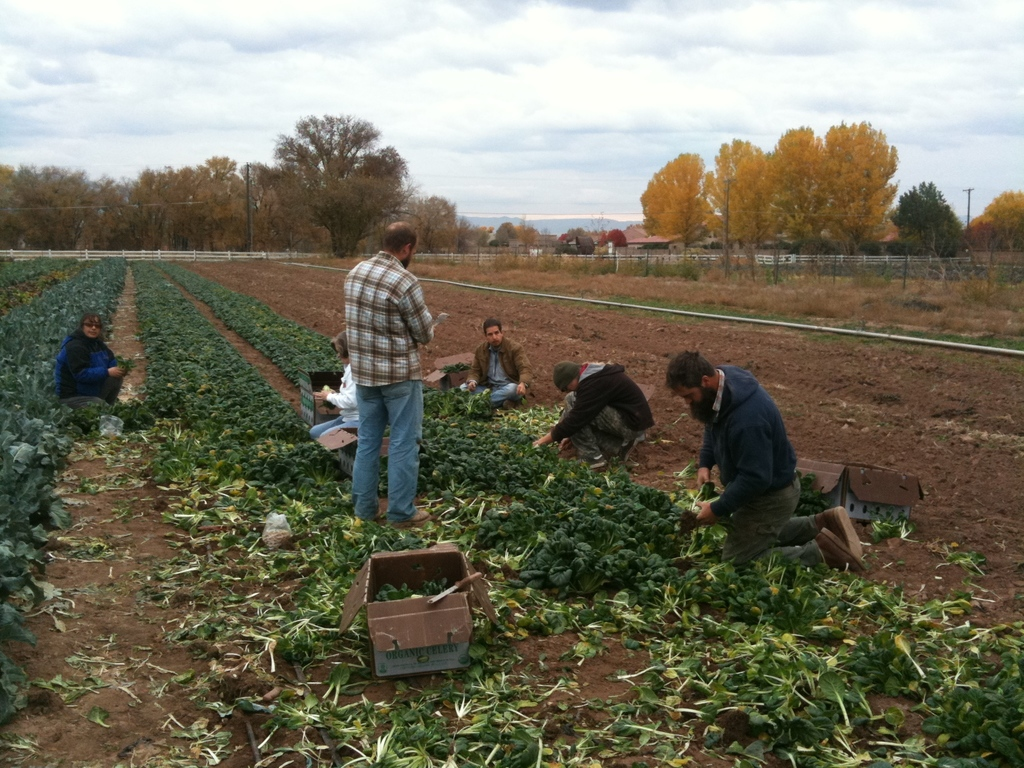Tree: (1, 116, 461, 258), (638, 118, 903, 288), (893, 179, 967, 259), (964, 188, 1024, 253)
